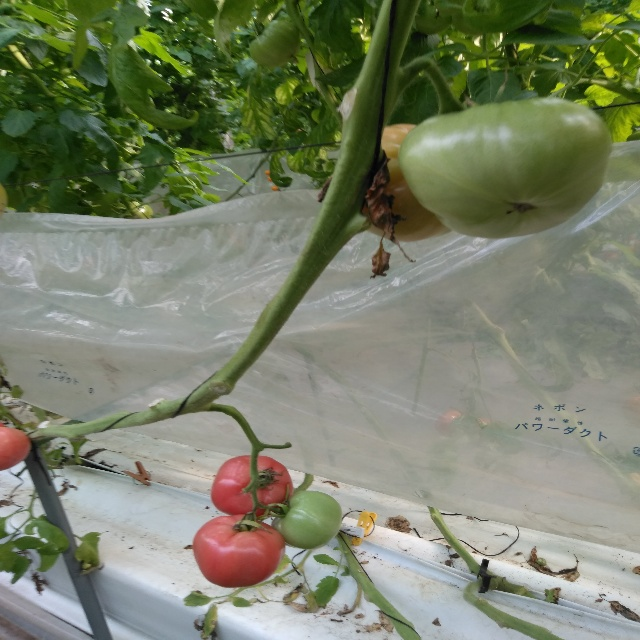b_fully_ripened: (191, 514, 287, 588), (210, 454, 294, 519)
b_green: (397, 97, 614, 239), (271, 490, 343, 550), (249, 19, 301, 69)
b_half_ripened: (361, 124, 454, 243), (0, 425, 30, 471)
